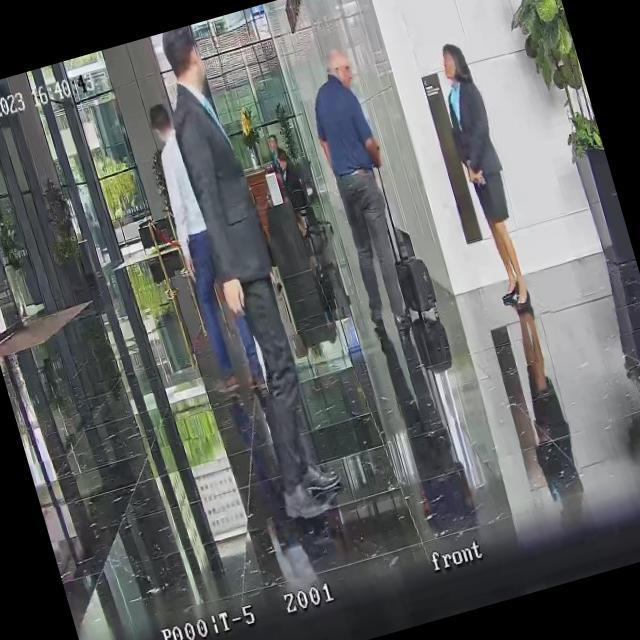person: (146, 20, 348, 523), (294, 41, 430, 338), (139, 98, 254, 392), (428, 38, 542, 316), (270, 140, 319, 242), (266, 131, 291, 171)
